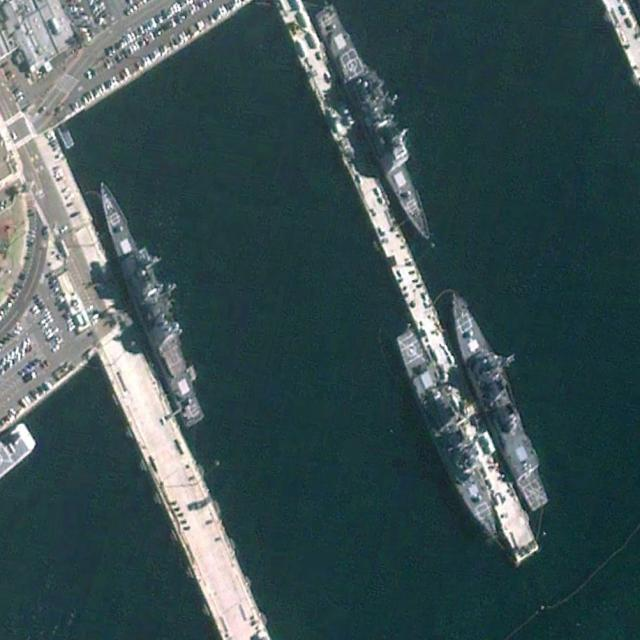Cruiser: (87, 170, 213, 433), (313, 1, 444, 248)
Destroyer: (436, 282, 556, 517), (391, 322, 508, 548)
